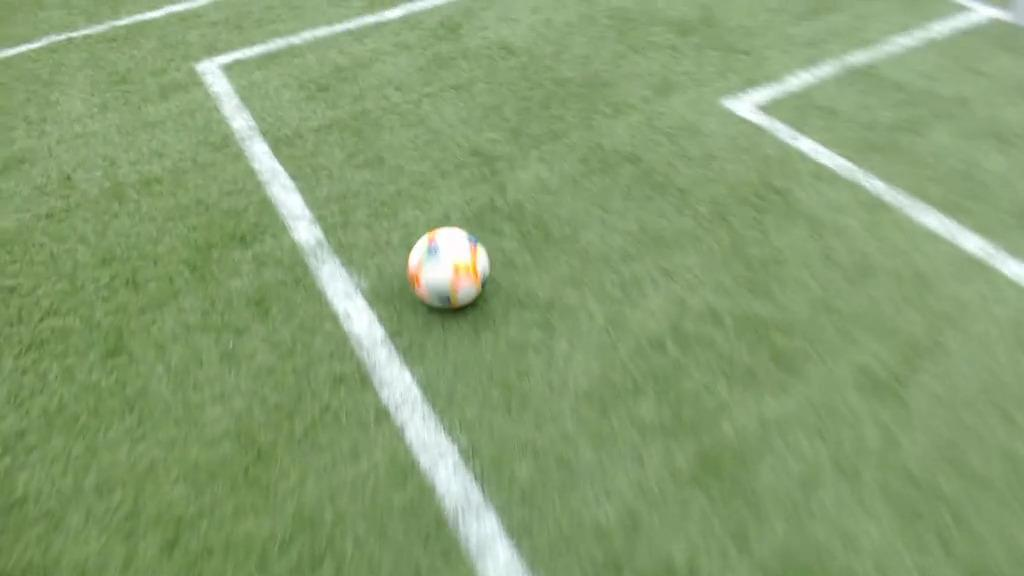ball: (408, 227, 491, 312)
